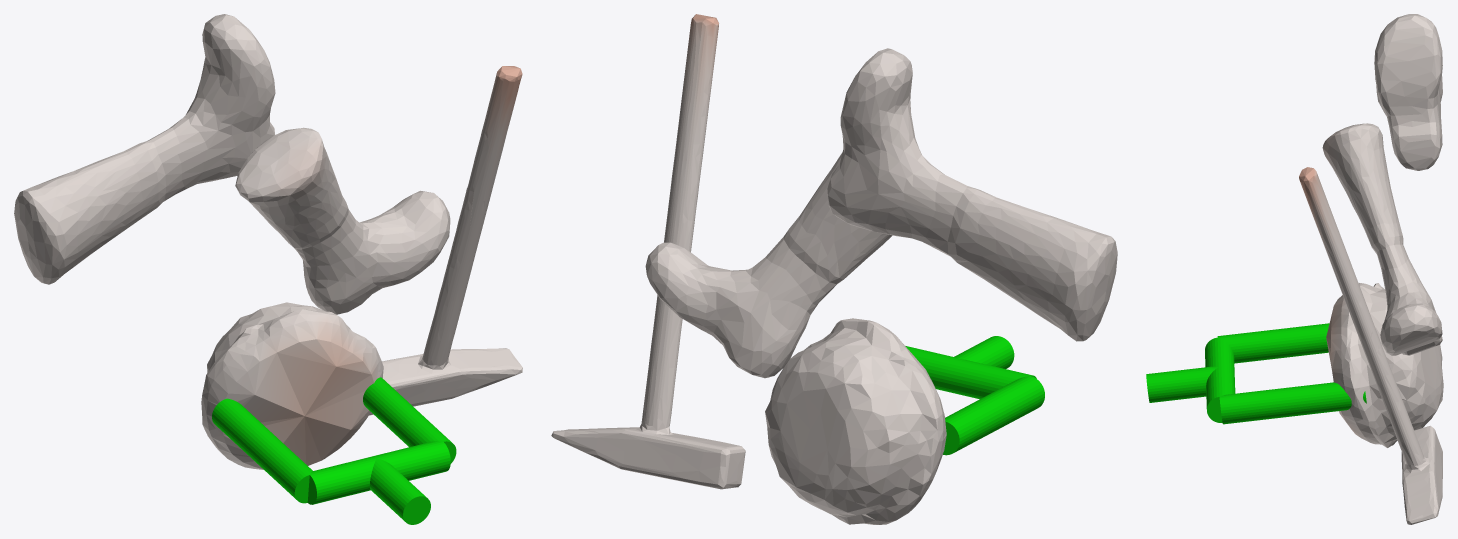
File: round_000_trial_001.obj
The picture shows the model from 3 angles, left to right: view 1: azimuth 30°, elevation 25°; view 2: azimuth 150°, elevation 25°; view 3: azimuth 270°, elevation 25°; orthographic projection. The views are drawn at different scales.
Visible parts, largest first — view 1: geometry_0, geometry_1; view 2: geometry_0, geometry_1; view 3: geometry_0, geometry_1.
Boxes of the visible parts, x1,y1,x2,y2 form: geometry_0: (14, 14, 522, 469); geometry_1: (212, 377, 456, 524); geometry_0: (551, 14, 1117, 524); geometry_1: (905, 336, 1044, 455); geometry_0: (1299, 14, 1443, 524); geometry_1: (1146, 323, 1366, 424).
Bounding box in the file's own units: 0.1775 × 0.1537 × 0.102.
